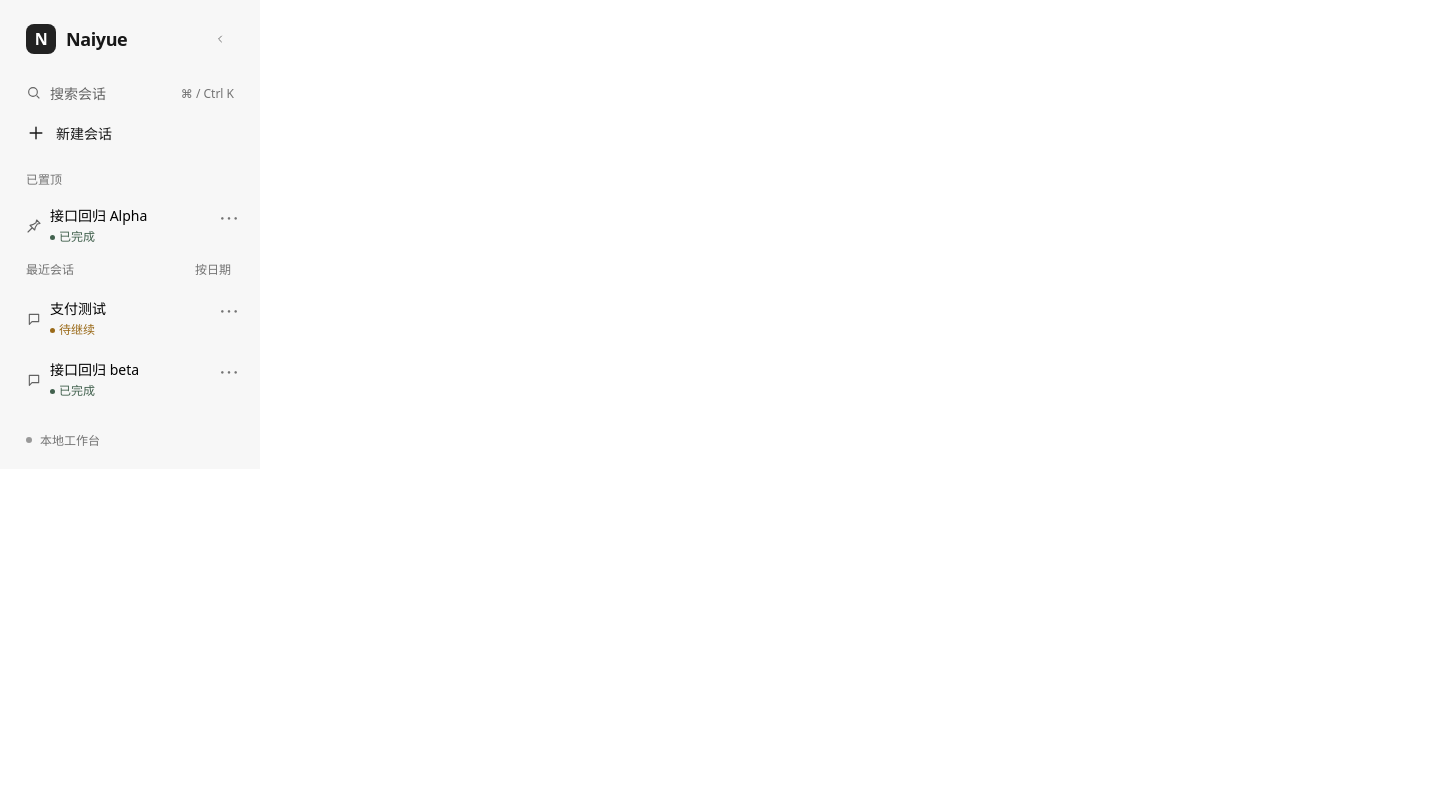
opens from the sidebar and searches literal titles locally in the original order
Click the button "搜索会话 ⌘ / Ctrl K".
click(130, 93)  # box [14,74,246,112]
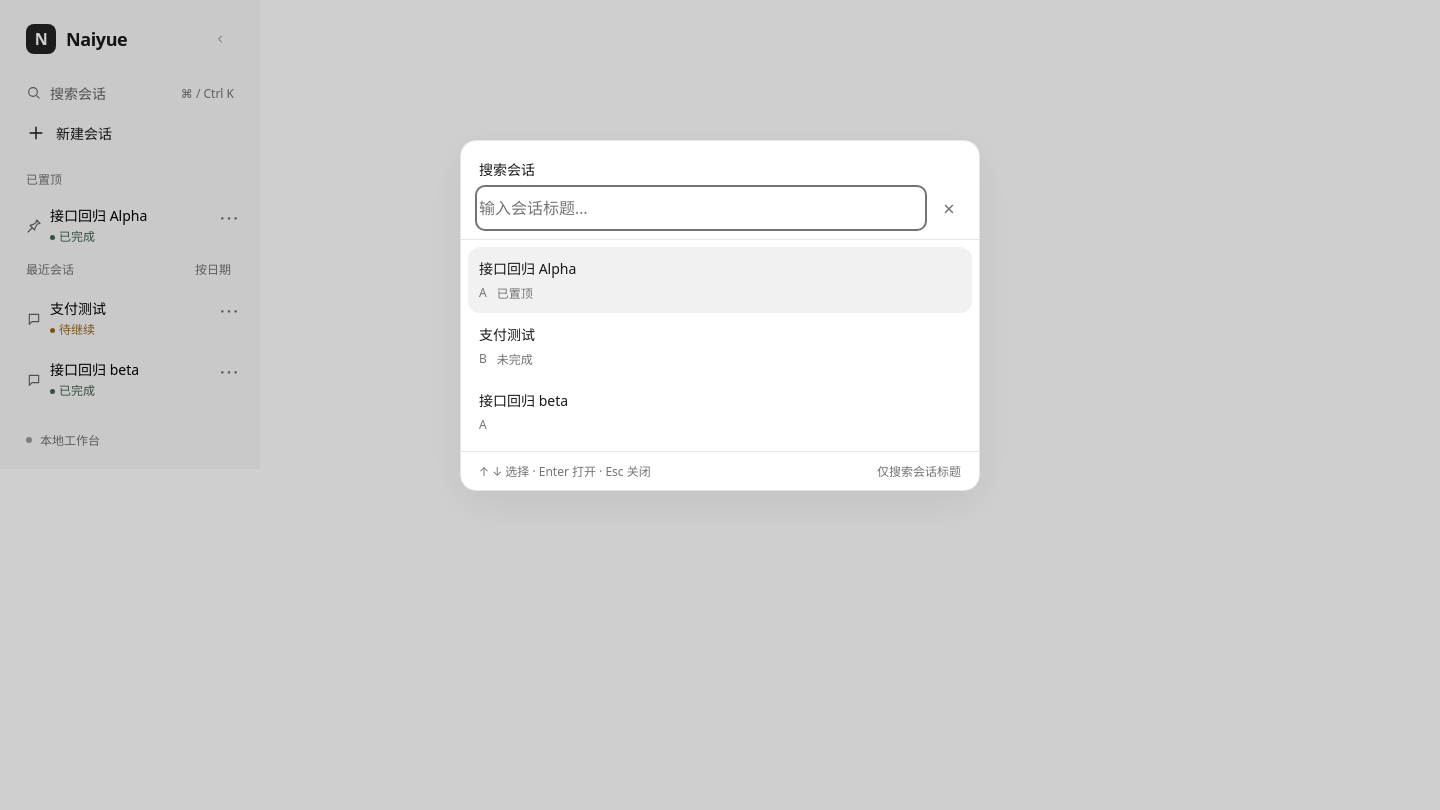
Result: the options read "接口回归 AlphaA已置顶", "支付测试B未完成", "接口回归 betaA", in this order at [468,247,972,313]; [468,313,972,379]; [468,379,972,444]
Type " 接口回归 " into the dropdown named "搜索会话标题".
click(701, 208); type(" 接口回归 ")  # box [479,189,923,227]
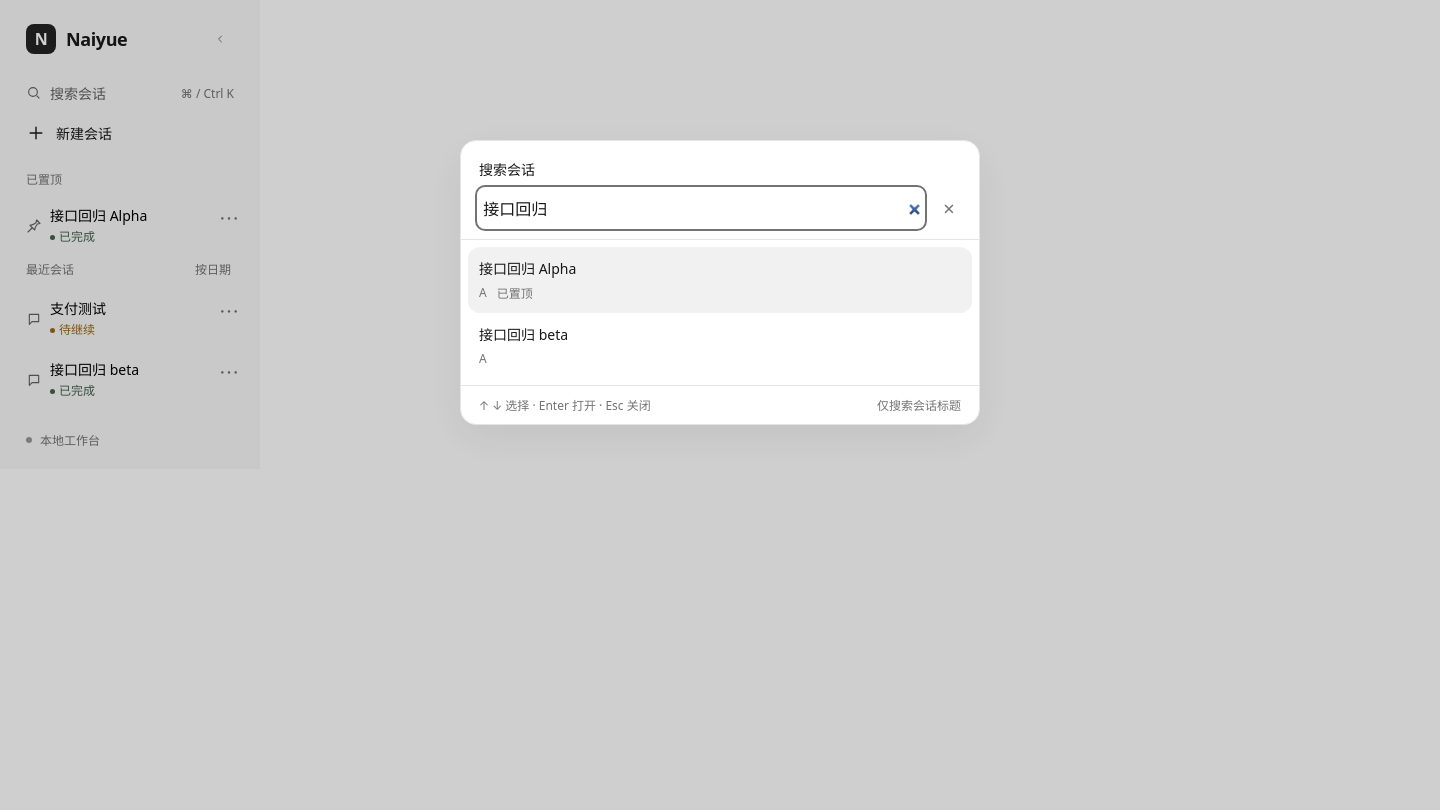
Result: the options read "接口回归 AlphaA已置顶", "接口回归 betaA", in this order at [468,247,972,313]; [468,313,972,378]
Replace the text in the dropdown named "搜索会话标题" with "ALPHA" at point(701, 208), box [479,189,923,227]
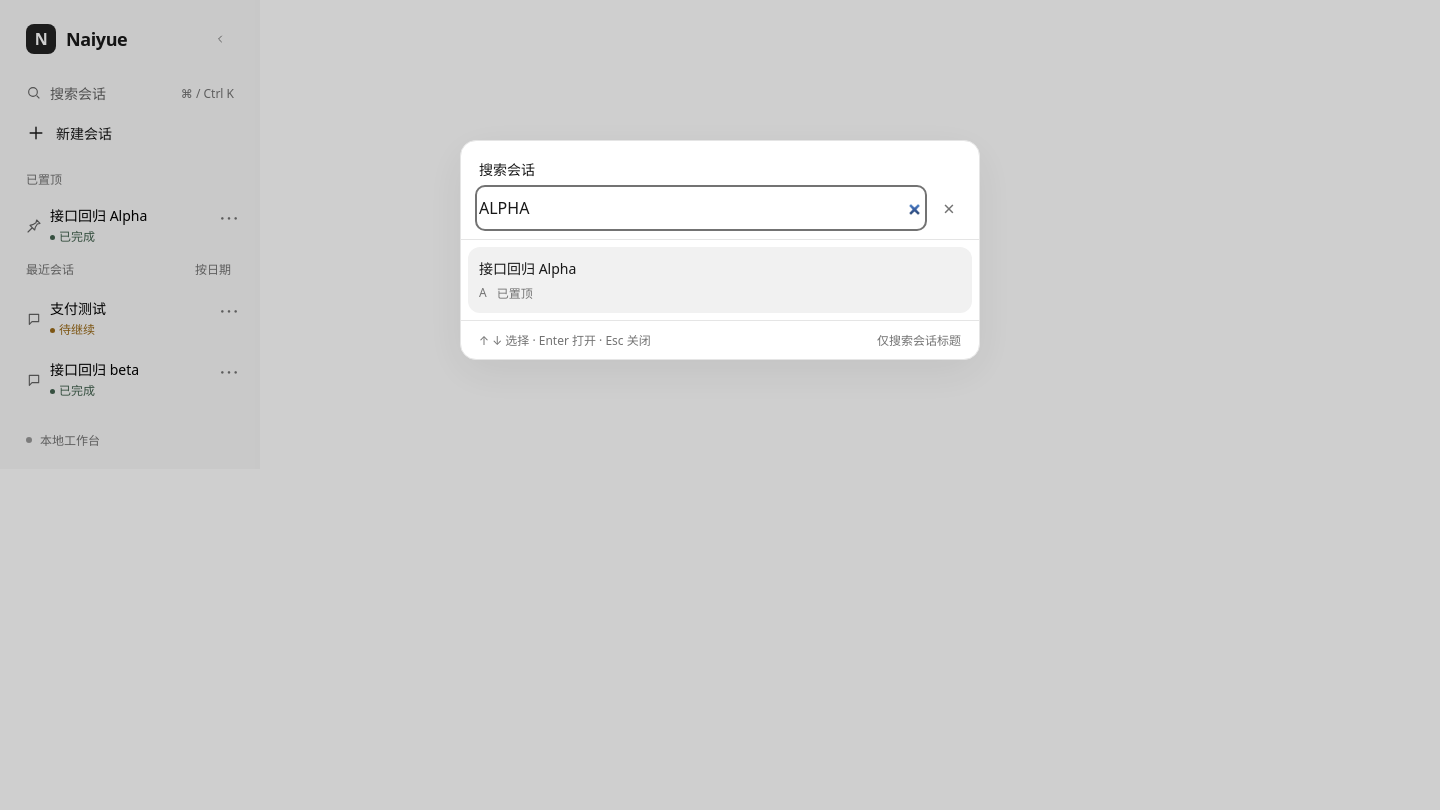
Result: the number of options is 1 at [468,247,972,313]
